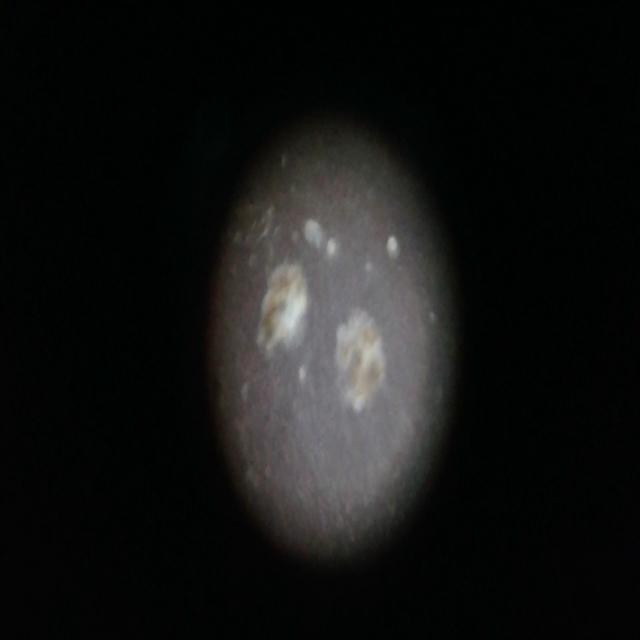alexandrium: (254, 250, 314, 373), (332, 300, 391, 422)
